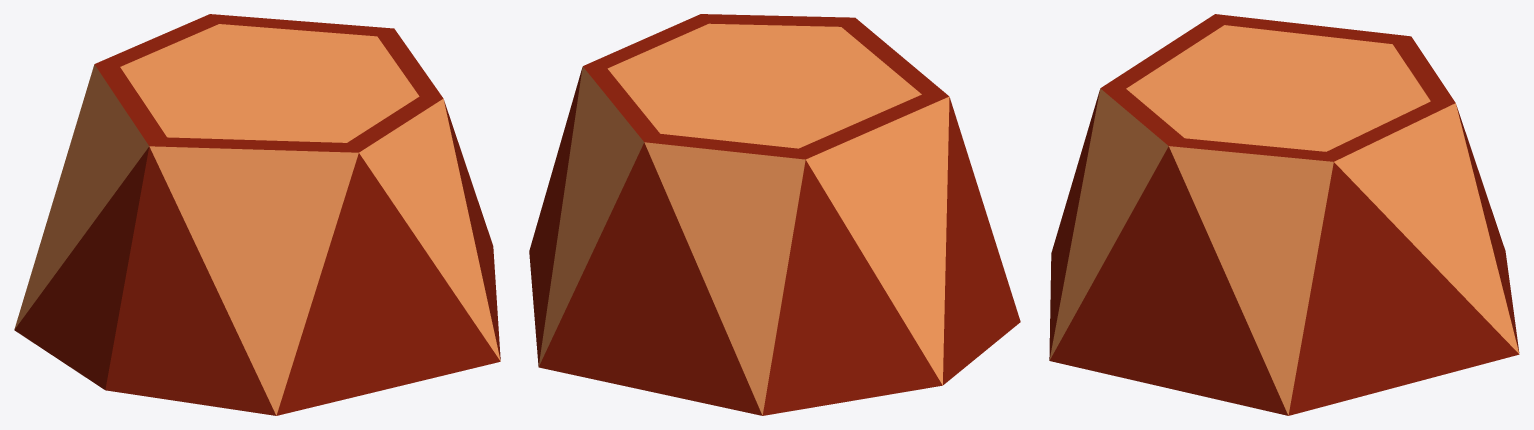
Rendered from Center.fbx.
3 renders of one model, left to right at view 1: azimuth 30°, elevation 25°; view 2: azimuth 150°, elevation 25°; view 3: azimuth 270°, elevation 25°, orthographic.
Parts seen in each view (by area): view 1: Cylinder; view 2: Cylinder; view 3: Cylinder.
Part boxes in pixels (left/top/right/bottom): Cylinder: left=14, top=14, right=500, bottom=415; Cylinder: left=529, top=14, right=1020, bottom=415; Cylinder: left=1049, top=14, right=1519, bottom=415.
Size of the model in its own units: 288 by 136 by 266.
